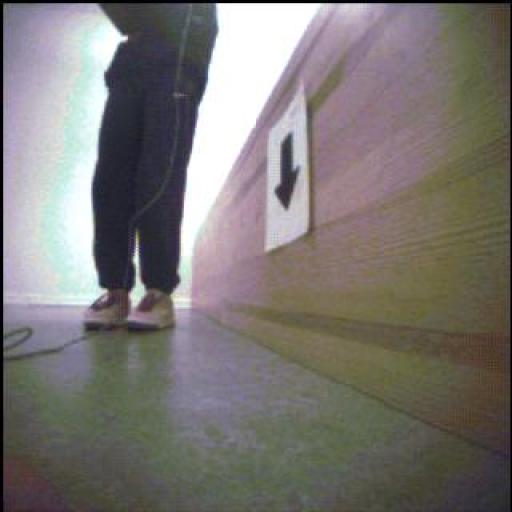arrow: (276, 134, 300, 211)
